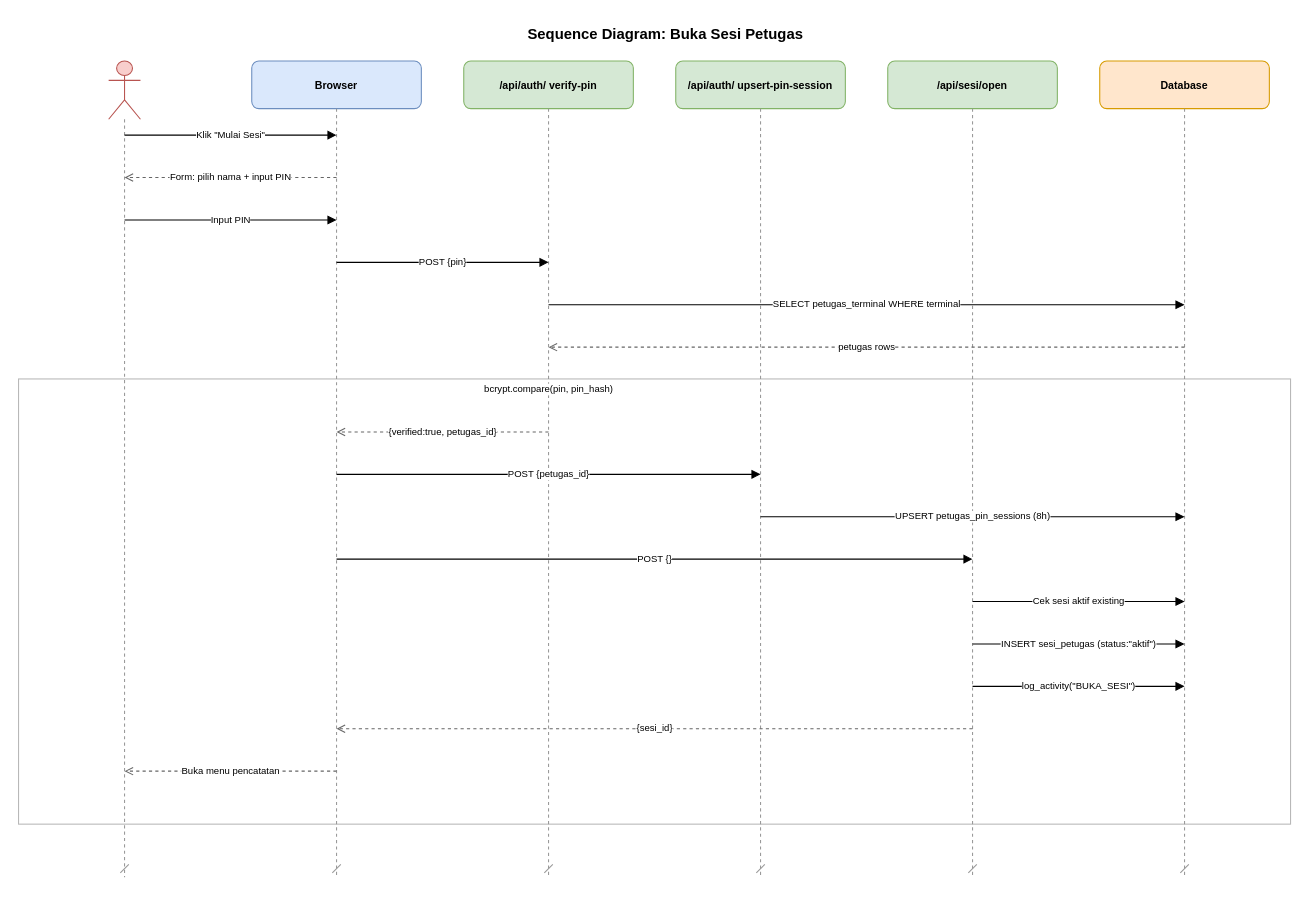
Image size: 1309x904. Some labels were removed from this diagram. The shapes that lost their labels are listed below. From the top down, each one's box as (x1, y1, x2, y2) in pixels, then its label:
(108, 60, 140, 119): Petugas Loket
(17, 378, 1291, 824): alt: PIN valid & belum ada sesi
